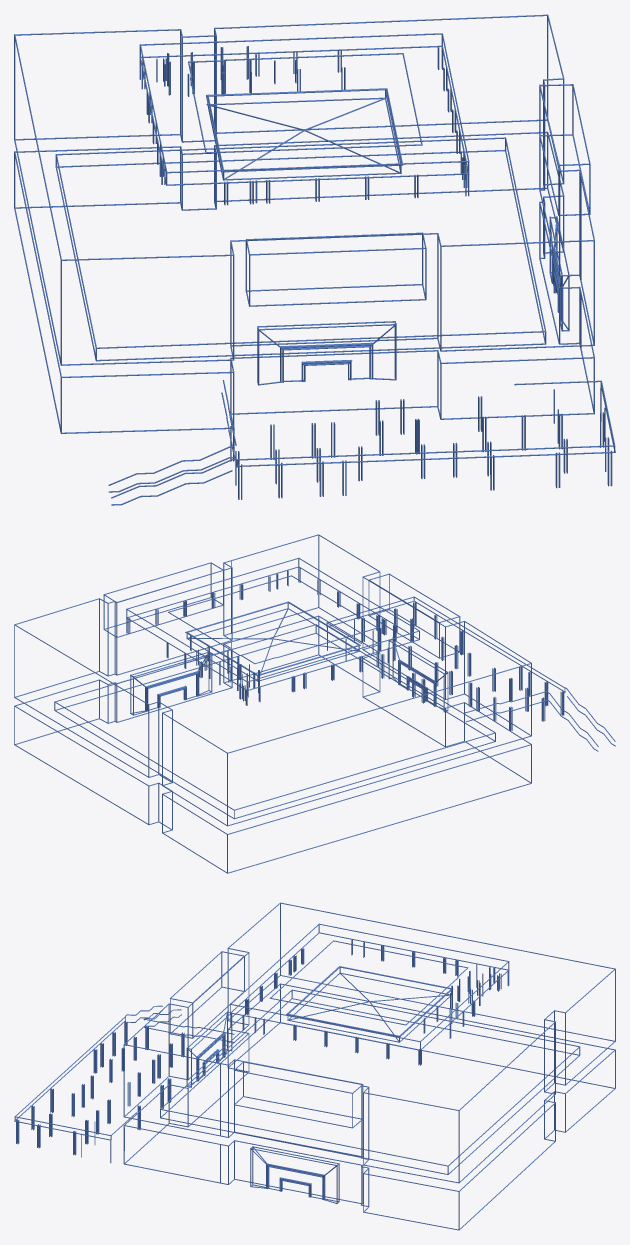
The picture shows the model from 3 angles, top to bottom: view 1: azimuth 30°, elevation 25°; view 2: azimuth 150°, elevation 25°; view 3: azimuth 270°, elevation 25°; orthographic projection. The views are drawn at different scales.
Visible parts, largest first — view 1: ______; view 2: ______; view 3: ______.
Boxes of the visible parts, bbox=[...] form: ______: bbox=[14, 14, 615, 505]; ______: bbox=[14, 534, 615, 873]; ______: bbox=[14, 902, 615, 1230].
Size of the model in its own units: 164 by 50.24 by 190.
